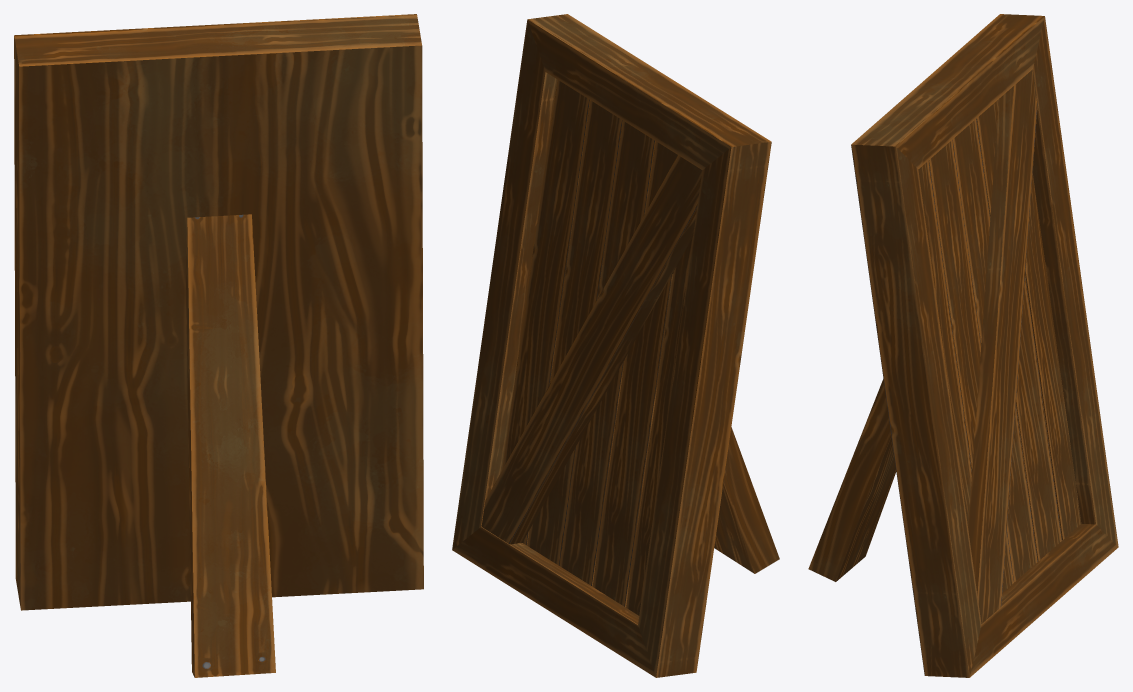
3 views of the same model, side by side, from view 1: azimuth 30°, elevation 25°; view 2: azimuth 150°, elevation 25°; view 3: azimuth 270°, elevation 25° (orthographic). The views are drawn at different scales.
Visible parts, largest first — view 1: Cube.476; view 2: Cube.476; view 3: Cube.476.
Boxes of the visible parts, x1,y1,x2,y2 form: Cube.476: [14, 14, 423, 677]; Cube.476: [452, 14, 779, 677]; Cube.476: [808, 14, 1118, 677].
Bounding box in the file's own units: 229 × 343 × 184.
Materials: 1 (1 with a texture image).
